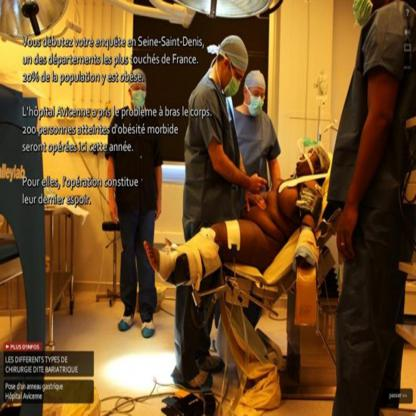face: (223, 65, 245, 98), (297, 149, 319, 175), (248, 87, 265, 117), (132, 83, 147, 108)
